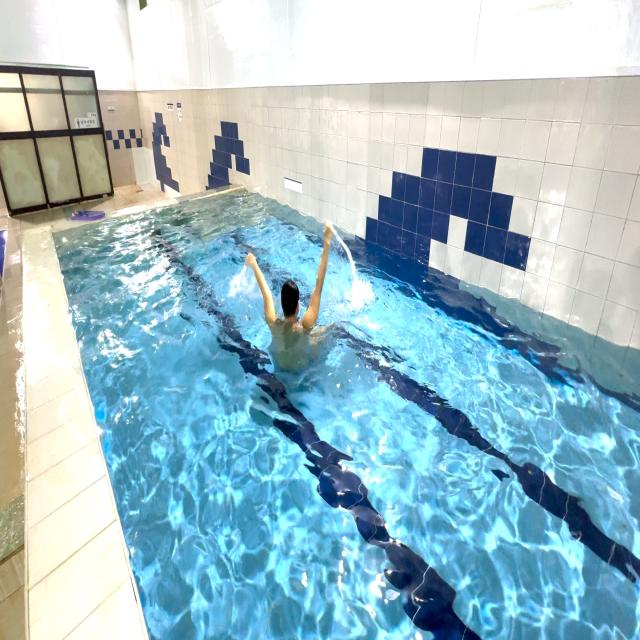Drowning: (233, 207, 349, 390)
